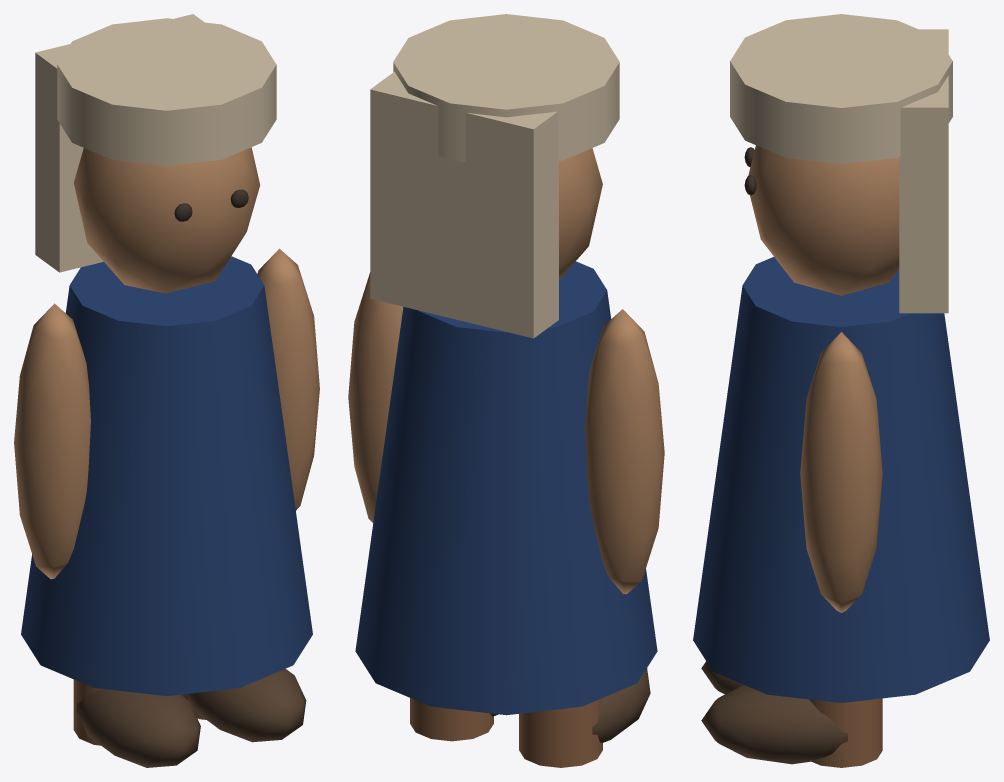
The model's file is resident-beltani.glb.
3 views of the same model, side by side, from view 1: azimuth 30°, elevation 25°; view 2: azimuth 150°, elevation 25°; view 3: azimuth 270°, elevation 25° (orthographic). The views are drawn at different scales.
Parts seen in each view (by area): view 1: resident-beltani; view 2: resident-beltani; view 3: resident-beltani.
Part boxes in pixels (<box>): resident-beltani: <box>14,14,319,767</box>; resident-beltani: <box>348,14,664,767</box>; resident-beltani: <box>693,14,989,767</box>.
Bounding box in the file's own units: 0.84 × 1.79 × 0.72.
